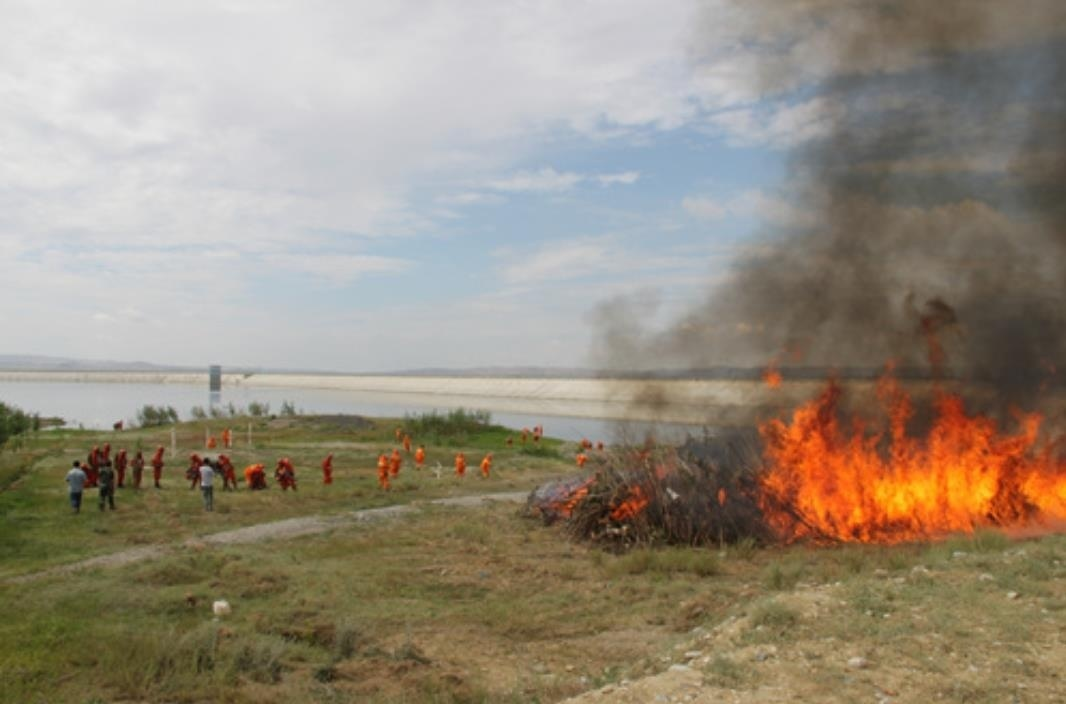fire: (749, 357, 1065, 540), (545, 475, 658, 519), (378, 429, 424, 477)
